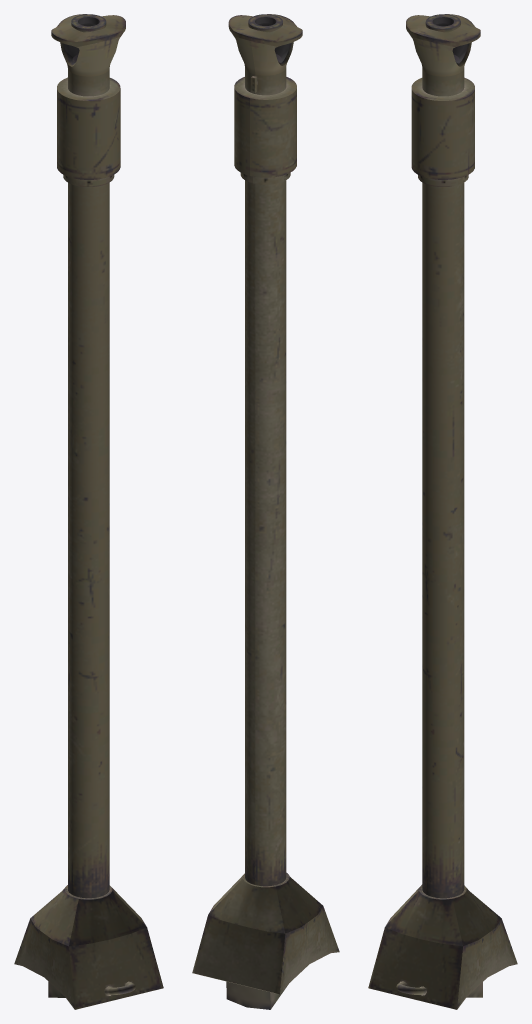
The model's file is Gun_01.glb.
3 renders of one model, left to right at view 1: azimuth 30°, elevation 25°; view 2: azimuth 150°, elevation 25°; view 3: azimuth 330°, elevation 25°, orthographic.
Visible parts, largest first — view 1: set_0_group_0; view 2: set_0_group_0; view 3: set_0_group_0.
Part boxes in pixels (x1=…): set_0_group_0: x1=14, y1=14, x2=163, y2=1009; set_0_group_0: x1=192, y1=14, x2=339, y2=1009; set_0_group_0: x1=368, y1=14, x2=517, y2=1009.
Bounding box in the file's own units: 0.3597 × 3.81 × 0.4948.
Materials: 1 (1 with a texture image).
